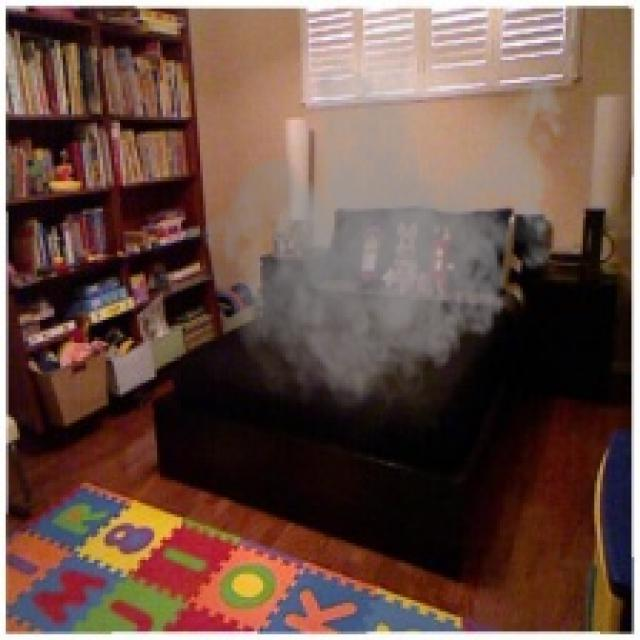smoke: (197, 0, 574, 423)
